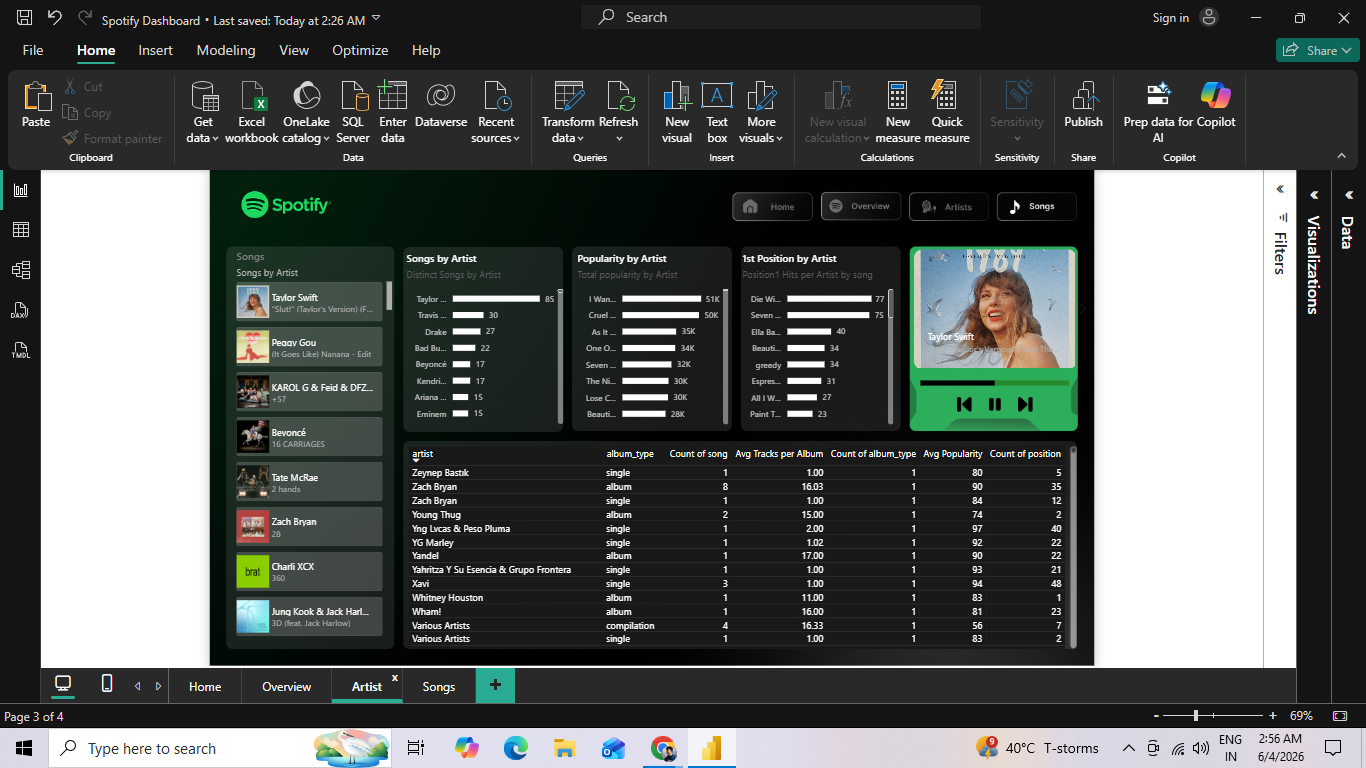

What the dashboard file says about the page in this screenshot:
{"tool":"powerbi","page":{"name":"Artist","canvas":[1280,720],"ordinal":2},"visuals":[{"type":"actionButton","box":[759,31.8,111.3,40.5],"z":0},{"type":"actionButton","box":[883.4,31.8,118.6,40.5],"z":1},{"type":"actionButton","box":[1012,31.8,114.2,40.5],"z":2},{"type":"actionButton","box":[1140.7,31.8,118.6,40.5],"z":3},{"type":"advancedSlicerVisual","title":"Songs","fields":{"Values":["Top-50-World.song"],"Label":["Min(Top-50-World.artist)"]},"box":[993.2,108.4,285.6,184.8],"z":4},{"type":"hundredPercentStackedBarChart","fields":{"Y":["Top-50-World.Avg Popularity","Avg(Top-50-World.popularity)"]},"box":[1023.5,269.7,225.1,68.9],"z":5},{"type":"image","box":[1167.9,323.5,23.5,30.2],"z":6},{"type":"image","box":[1080.6,323.5,23.5,30.2],"z":7},{"type":"image","box":[1102.4,323.5,65.5,30.2],"z":8},{"type":"shape","box":[1006.7,103.4,263.7,290.6],"z":9},{"type":"advancedSlicerVisual","title":"Songs","fields":{"Values":["Top-50-World.song"],"Label":["Min(Top-50-World.artist)"]},"box":[34.7,114.2,235.7,571.1],"z":13},{"type":"clusteredBarChart","title":"Songs by Artist","fields":{"Category":["Top-50-World.artist"],"Y":["Top-50-World.Distinct Songs per Artist"]},"box":[280,117.5,236.9,255.3],"z":15},{"type":"clusteredBarChart","title":"Popularity by Artist","fields":{"Category":["Top-50-World.song"],"Y":["Sum(Top-50-World.popularity)"]},"box":[527.7,117.1,228.4,255.9],"z":16},{"type":"clusteredBarChart","title":"1st Position by Artist","fields":{"Category":["Top-50-World.song"],"Y":["Top-50-World.Position1 Hits per Artist"]},"box":[766.3,117.1,228.4,255.9],"z":17},{"type":"tableEx","fields":{"Values":["Top-50-World.artist","Top-50-World.album_type","Top-50-World.song","Top-50-World.Avg Tracks per Album","Count(Top-50-World.album_type)","Top-50-World.Avg Popularity","Count(Top-50-World.position)"]},"box":[283.4,394.7,975.9,302.2],"z":18}]}

Visuals, with their boxes on the page's 1280x720 design canvas (x1, y1, x2, y2). These are canvas units, not pixel positions in the 1366x768 screenshot, which may show the page scaled, cropped or inside an application window:
actionButton: box(759, 32, 870, 72)
actionButton: box(883, 32, 1002, 72)
actionButton: box(1012, 32, 1126, 72)
actionButton: box(1141, 32, 1259, 72)
"Songs" advancedSlicerVisual: box(993, 108, 1279, 293)
hundredPercentStackedBarChart - Top-50-World.Avg Popularity x Avg(Top-50-World.popularity): box(1024, 270, 1249, 339)
image: box(1168, 324, 1191, 354)
image: box(1081, 324, 1104, 354)
image: box(1102, 324, 1168, 354)
shape: box(1007, 103, 1270, 394)
"Songs" advancedSlicerVisual: box(35, 114, 270, 685)
"Songs by Artist" clusteredBarChart: box(280, 118, 517, 373)
"Popularity by Artist" clusteredBarChart: box(528, 117, 756, 373)
"1st Position by Artist" clusteredBarChart: box(766, 117, 995, 373)
tableEx - Top-50-World.artist x Top-50-World.album_type: box(283, 395, 1259, 697)
